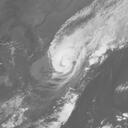cyclone: (48, 41, 82, 77)
